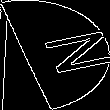N_W: (10, 29, 100, 81)
